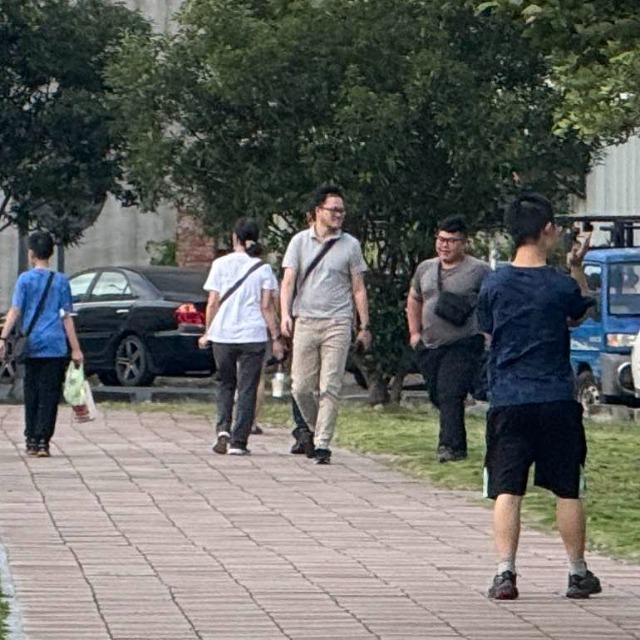NoVest: (284, 227, 369, 326), (417, 256, 490, 344)
